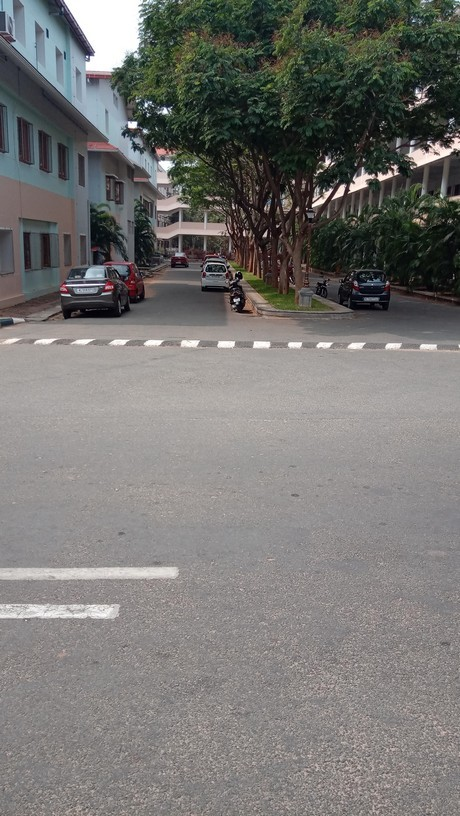bump: (1, 336, 459, 356)
